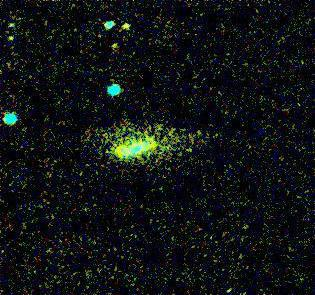star: (112, 13, 142, 43)
